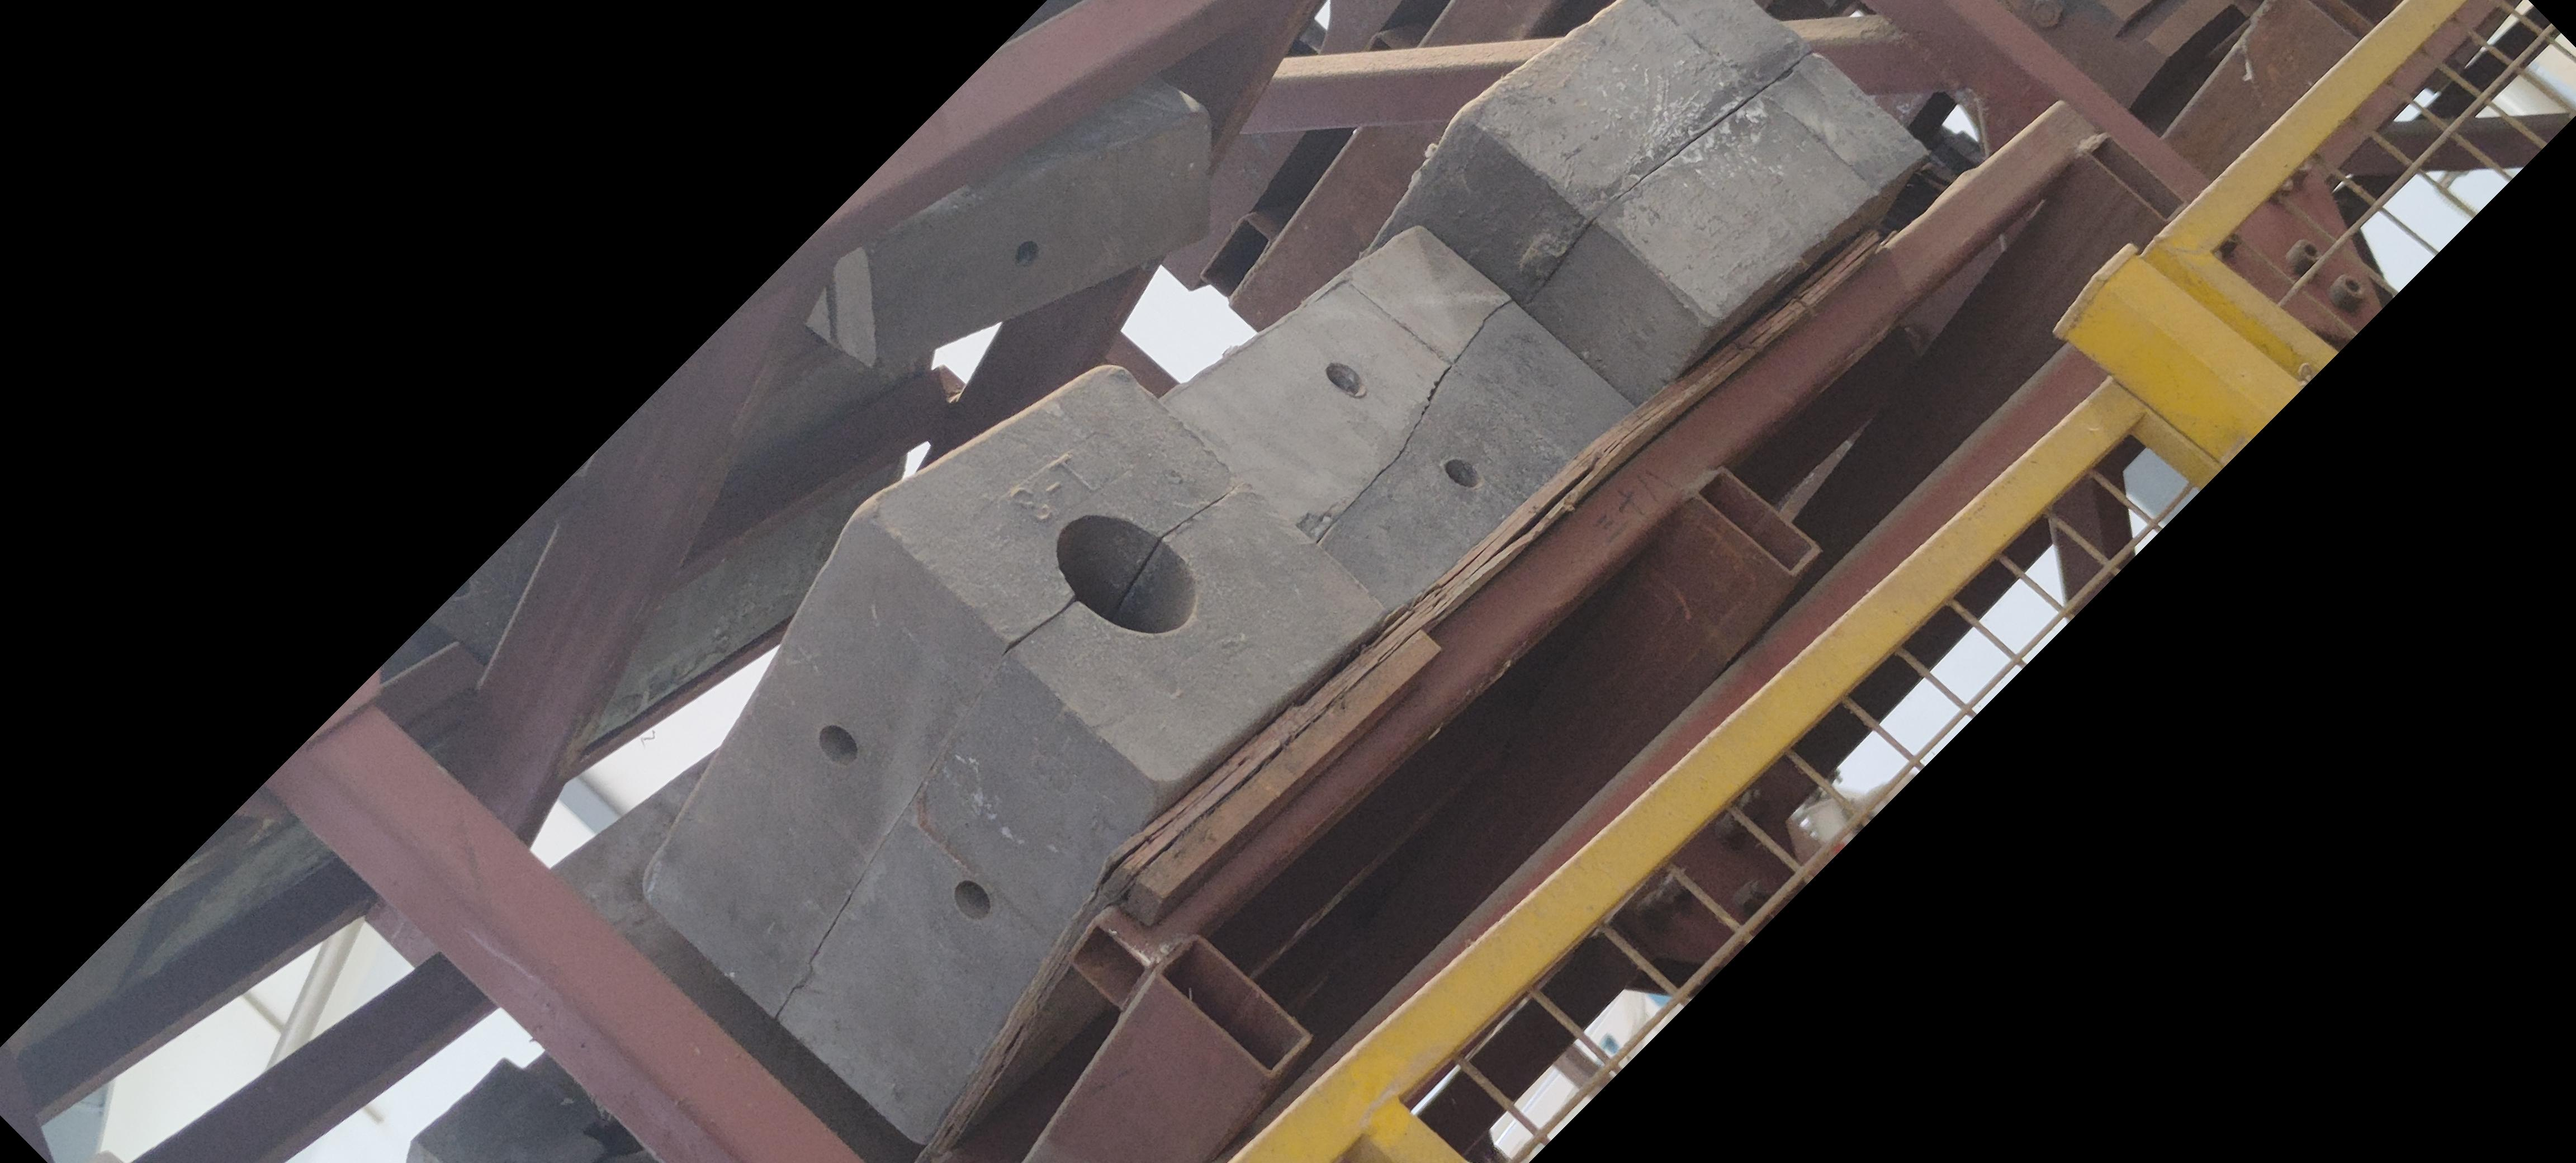pouring hole: (1058, 514, 1198, 634)
